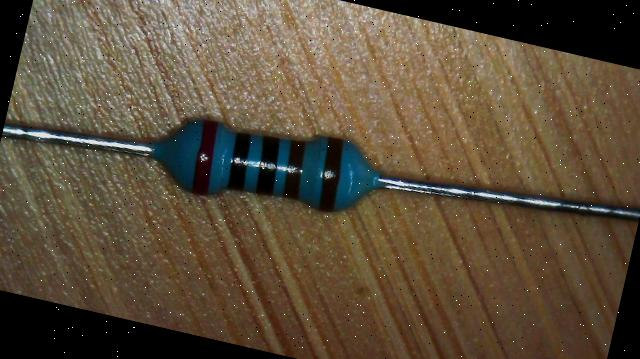black: (252, 135, 284, 196), (225, 132, 255, 190)
brown: (312, 136, 349, 212), (279, 139, 310, 199)
red: (188, 118, 225, 196)
resistor: (132, 93, 411, 234)
